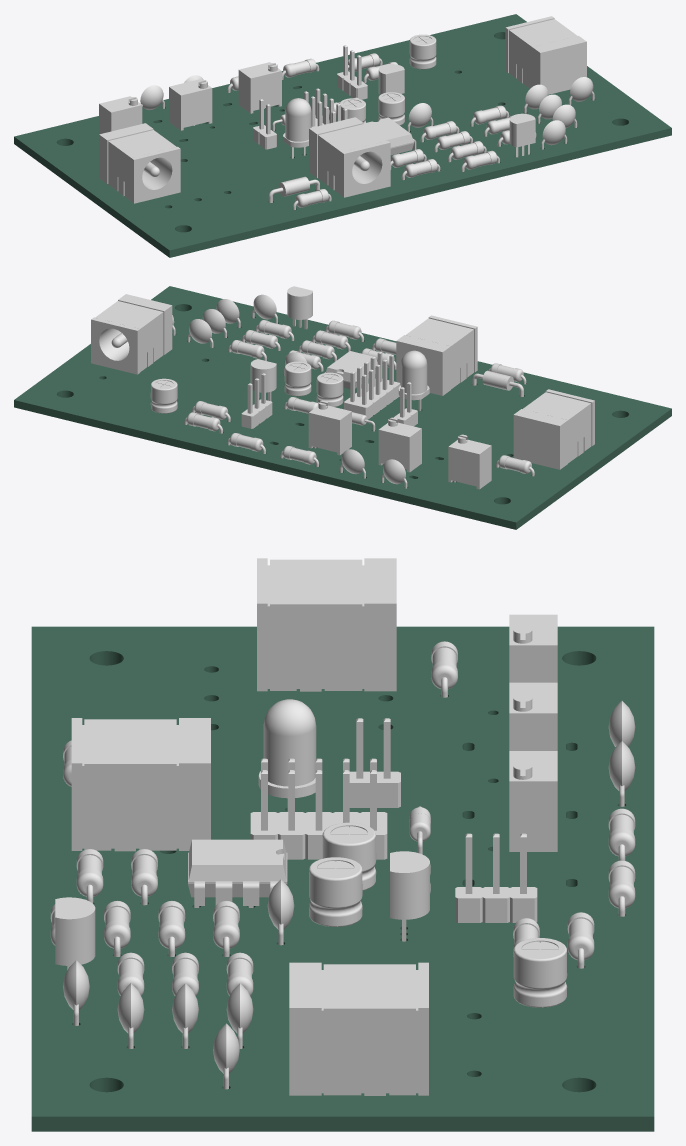
Rendered from ocd_v0p4_8v18v.glb.
The picture shows the model from 3 angles, top to bottom: view 1: azimuth 30°, elevation 25°; view 2: azimuth 150°, elevation 25°; view 3: azimuth 270°, elevation 25°; orthographic projection. The views are drawn at different scales.
Parts seen in each view (by area): view 1: =>[0:1:1:17], J_PWR, J_IN, J_OUT, X4, X5, X2, D_LED, U1, SW_HP, M1, SW_FS (+22 smaller); view 2: =>[0:1:1:17], J_OUT, J_IN, J_PWR, SW_FS, X2, X5, X4, D_LED, SW_HP, C2, M1 (+25 smaller); view 3: =>[0:1:1:17], J_IN, J_OUT, J_PWR, SW_FS, U1, X5, D_LED, SW_HP, C5, C2, X2 (+25 smaller).
Boxes of the visible parts, x1=… form: =>[0:1:1:17]: x1=14, y1=14, x2=671, y2=257; J_PWR: x1=309, y1=117, x2=390, y2=197; J_IN: x1=99, y1=123, x2=180, y2=203; J_OUT: x1=505, y1=16, x2=586, y2=94; X4: x1=169, y1=79, x2=212, y2=130; X5: x1=238, y1=62, x2=281, y2=113; X2: x1=99, y1=96, x2=142, y2=134; D_LED: x1=283, y1=98, x2=311, y2=158; U1: x1=363, y1=117, x2=416, y2=155; SW_HP: x1=337, y1=45, x2=367, y2=99; M1: x1=509, y1=113, x2=535, y2=157; SW_FS: x1=304, y1=88, x2=347, y2=127; =>[0:1:1:17]: x1=14, y1=286, x2=671, y2=529; J_OUT: x1=91, y1=294, x2=172, y2=374; J_IN: x1=513, y1=389, x2=594, y2=469; J_PWR: x1=396, y1=315, x2=477, y2=395; SW_FS: x1=344, y1=351, x2=400, y2=419; X2: x1=448, y1=434, x2=491, y2=489; X5: x1=308, y1=400, x2=351, y2=455; X4: x1=378, y1=417, x2=421, y2=472; D_LED: x1=398, y1=350, x2=429, y2=410; SW_HP: x1=241, y1=373, x2=272, y2=428; C2: x1=284, y1=361, x2=311, y2=396; M1: x1=287, y1=286, x2=312, y2=329; =>[0:1:1:17]: x1=31, y1=626, x2=654, y2=1131; J_IN: x1=257, y1=558, x2=396, y2=691; J_OUT: x1=289, y1=962, x2=428, y2=1095; J_PWR: x1=71, y1=718, x2=210, y2=851; SW_FS: x1=250, y1=758, x2=387, y2=859; U1: x1=188, y1=839, x2=287, y2=907; X5: x1=509, y1=751, x2=557, y2=851; D_LED: x1=258, y1=699, x2=316, y2=811; SW_HP: x1=455, y1=833, x2=537, y2=922; C5: x1=513, y1=938, x2=567, y2=1007; C2: x1=309, y1=857, x2=362, y2=926; X2: x1=509, y1=614, x2=557, y2=682.
Size of the model in its own units: 0.108 by 0.0165 by 0.058.
